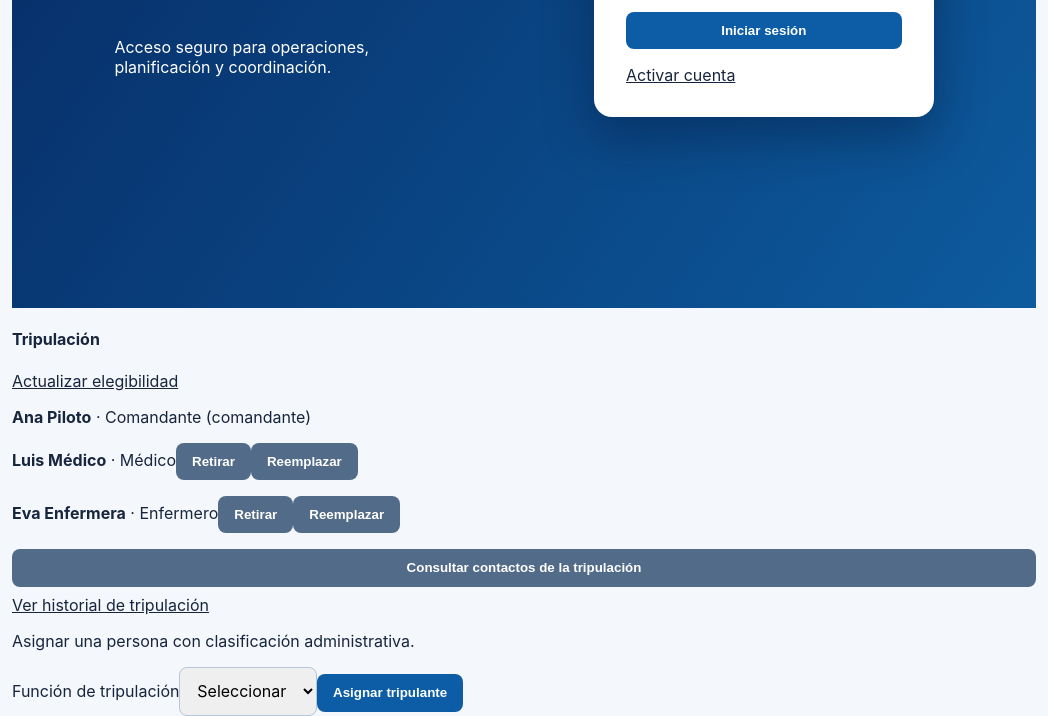
Scenario: la consulta explícita muestra a cada tripulante con su función, teléfono y correo por separado y los estados sin contacto
The image size is (1048, 716).
(page scrolled)
Expected: the text "Luis Médico" is shown, x1=12 y1=450 x2=106 y2=470
Click the button "Consultar contactos de la tripulación" at (524, 568), box x1=12 y1=549 x2=1036 y2=587
(page scrolled)
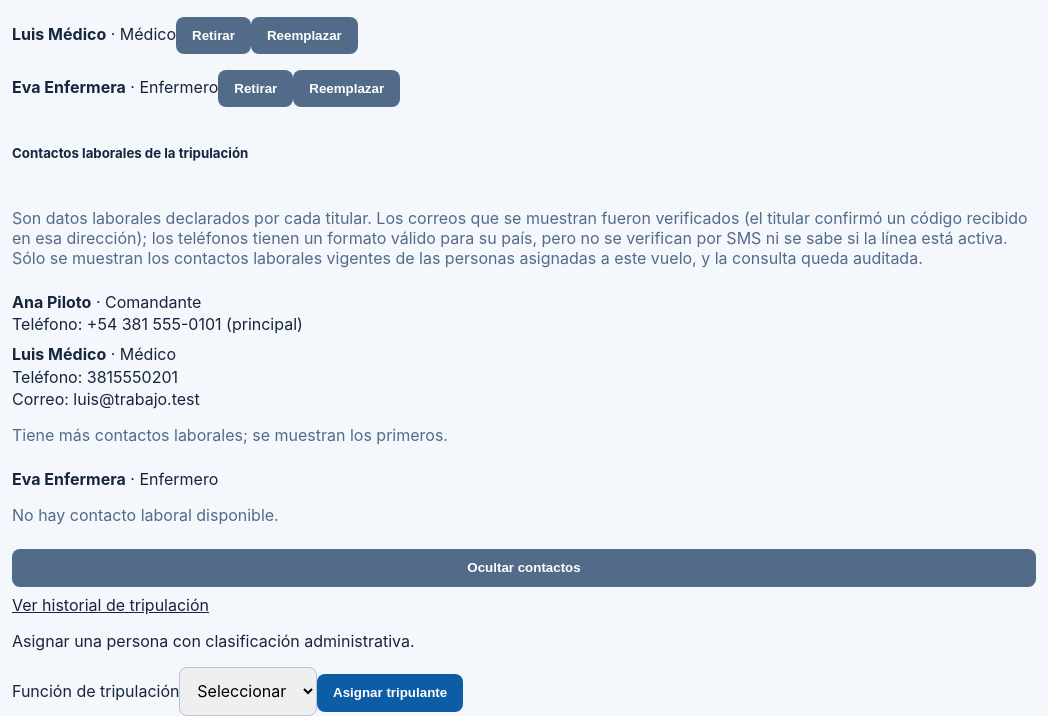
Expected: the number of list items is 3, x1=12 y1=292 x2=303 y2=334; x1=12 y1=344 x2=448 y2=445; x1=12 y1=469 x2=279 y2=525
Expected: the list item that starts with "Ana" shows "Ana Piloto · Comandante", x1=12 y1=292 x2=303 y2=334
Expected: the list item that starts with "Ana" shows "Teléfono: +54 381 555-0101 (principal)", x1=12 y1=292 x2=303 y2=334
